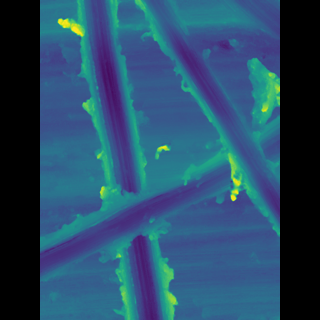Loch: (69, 112, 250, 285), (144, 0, 249, 238), (95, 0, 170, 320)
